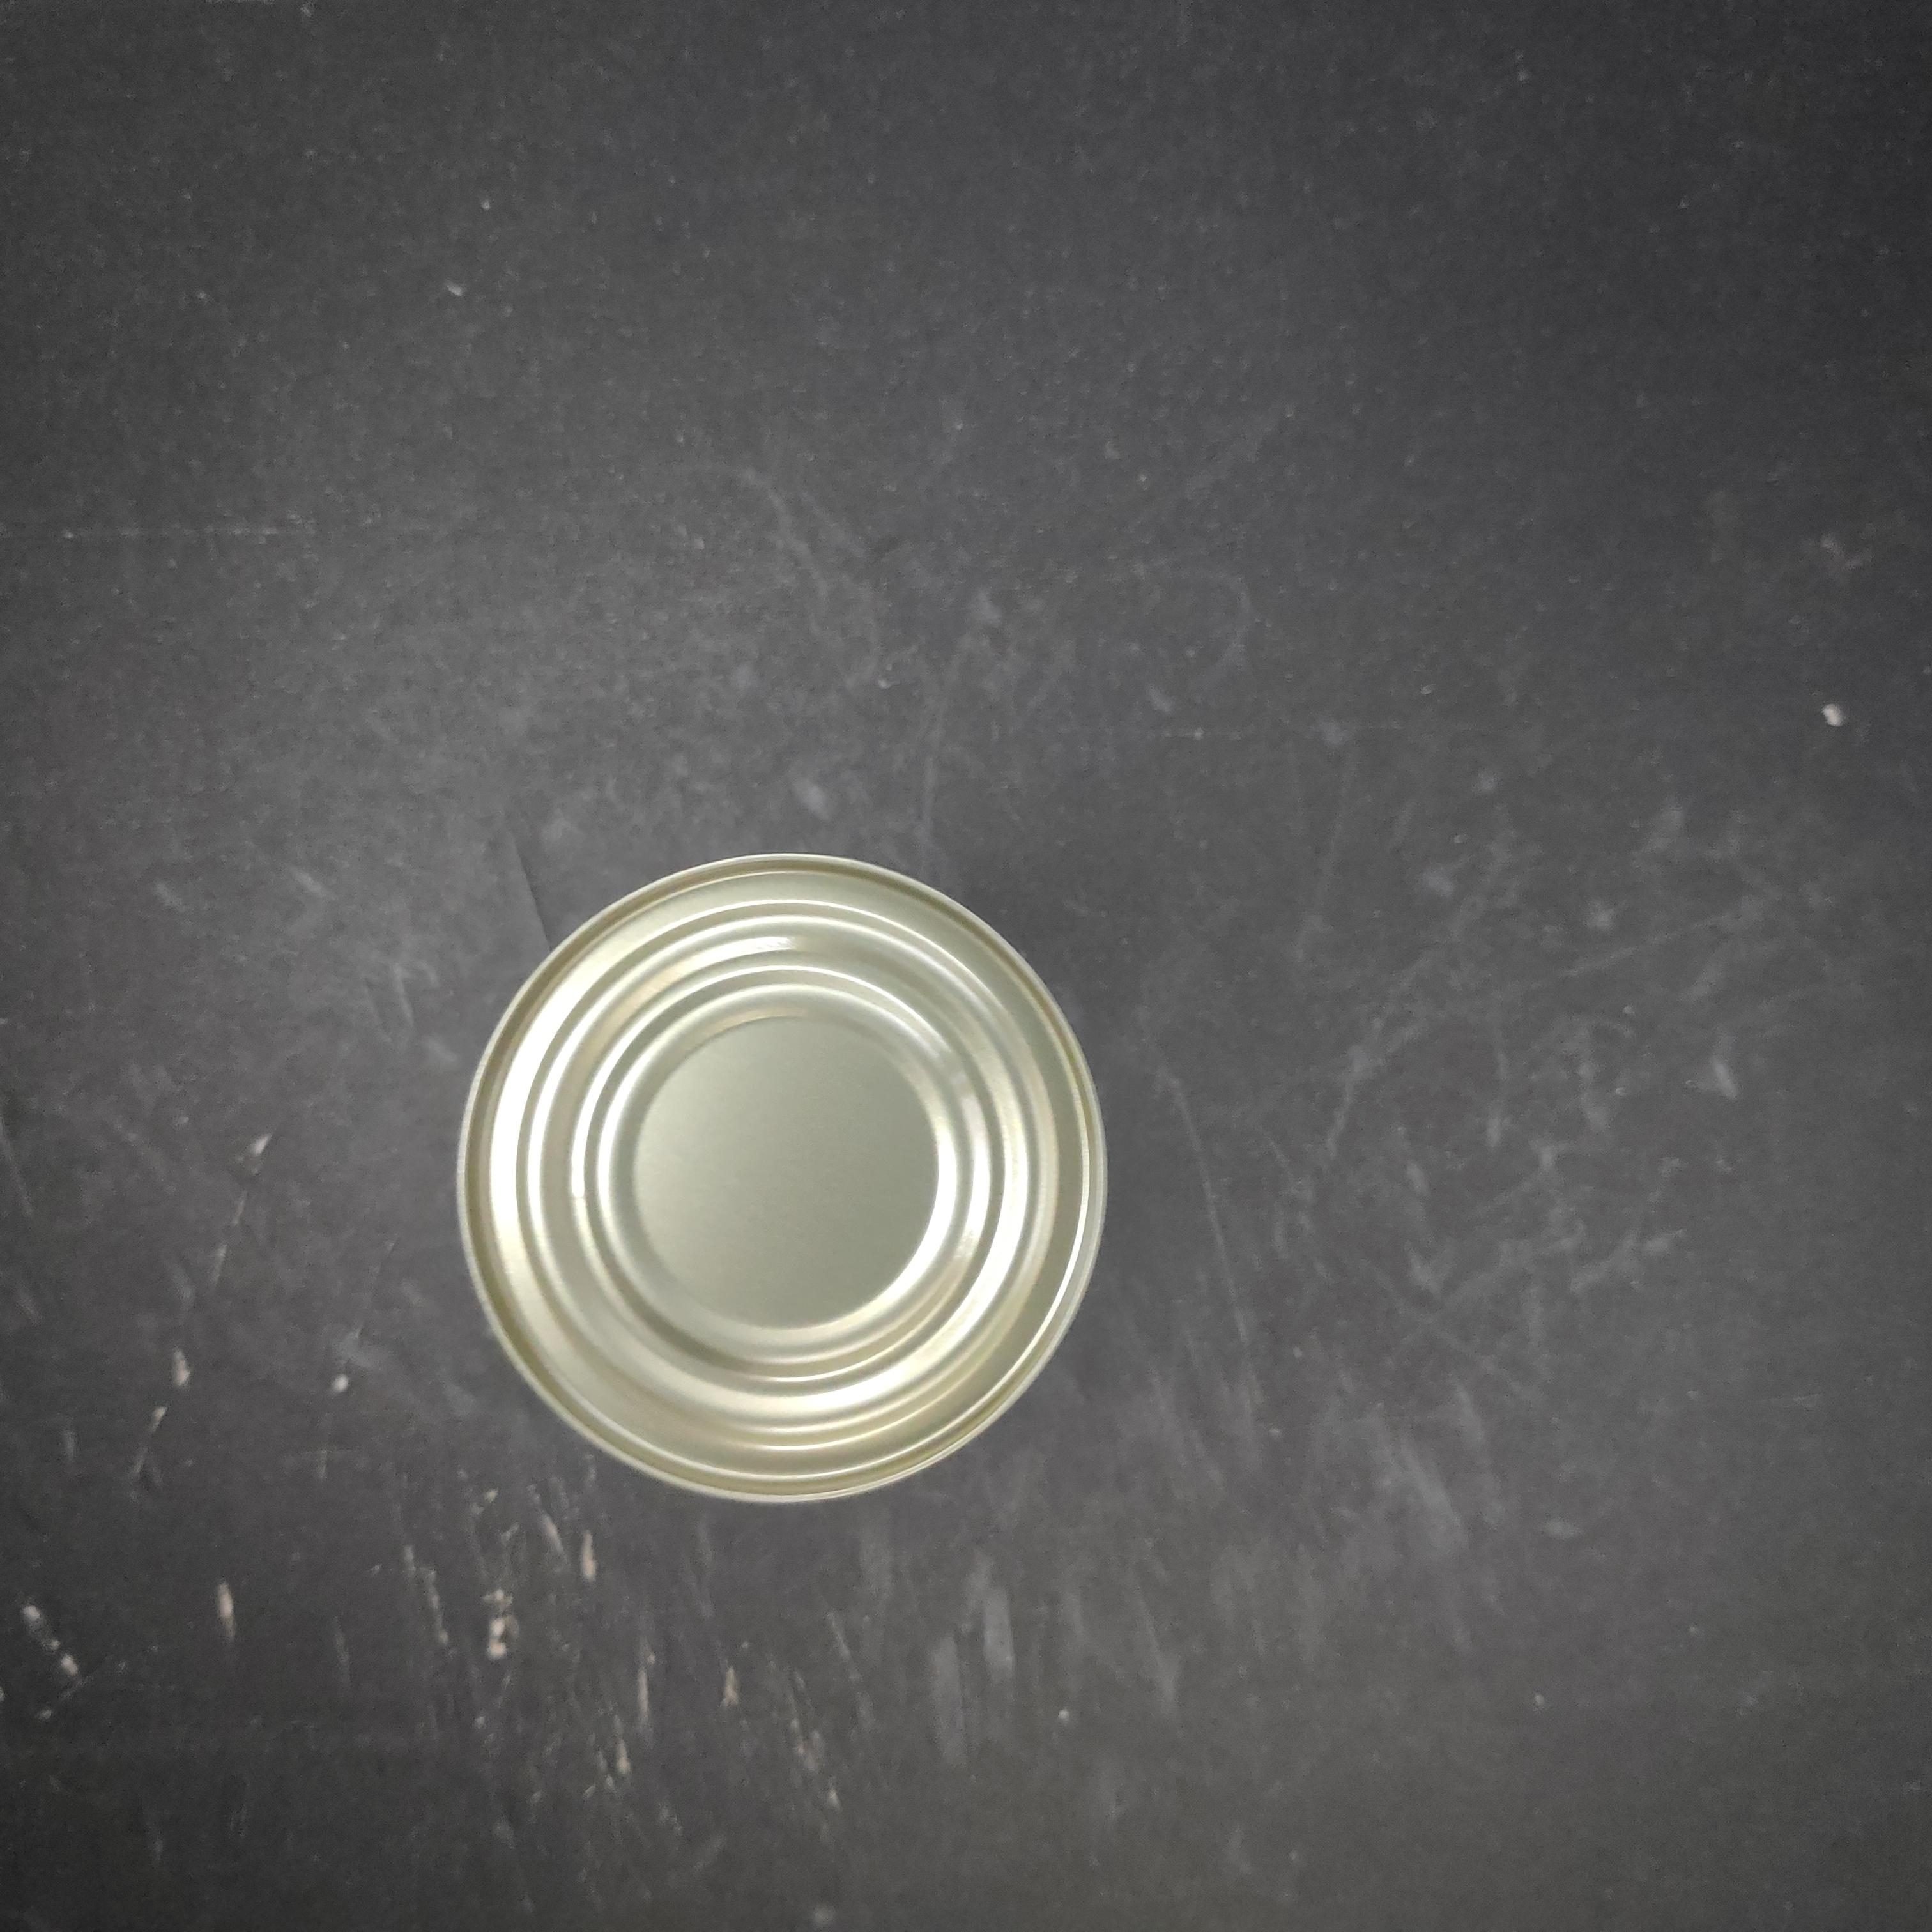No defect: (851, 820, 1507, 1482)
